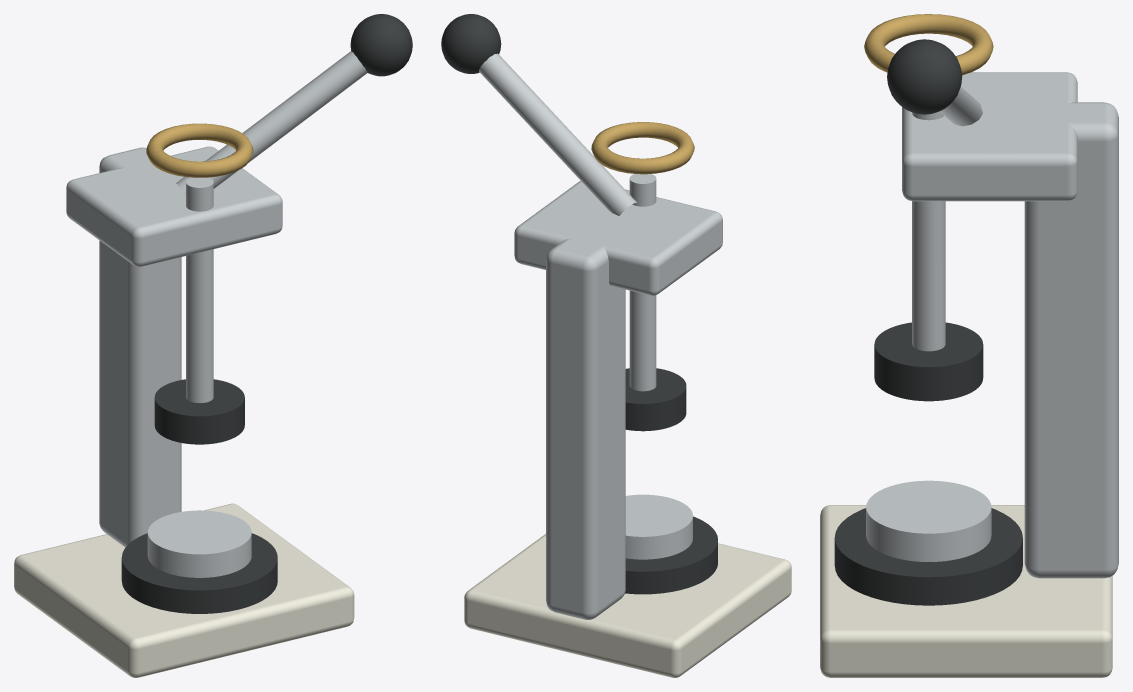
Rendered from clockmaker-and-watch-repair-jeweling-press-6b724dca__30622.glb.
The picture shows the model from 3 angles, left to right: view 1: azimuth 30°, elevation 25°; view 2: azimuth 150°, elevation 25°; view 3: azimuth 270°, elevation 25°; orthographic projection. The views are drawn at different scales.
Visible parts, largest first — view 1: jeweling-press; view 2: jeweling-press; view 3: jeweling-press.
Boxes of the visible parts, x1,y1,x2,y2 form: jeweling-press: [14, 14, 412, 677]; jeweling-press: [441, 14, 791, 677]; jeweling-press: [820, 14, 1118, 677].
Size of the model in its own units: 0.213 by 0.358 by 0.1429.
